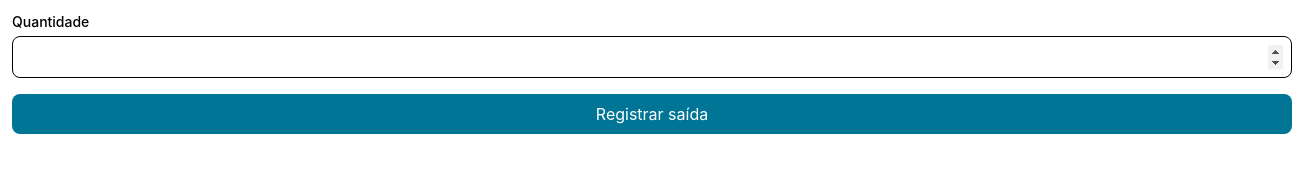
Test case: MovimentacaoForm › FE-13 rejeita quantidade zero sem chamar onSubmit
The image size is (1304, 188).
In the number field labelled "Quantidade": (652, 57) 12,36 -> 1292,78, type "0"
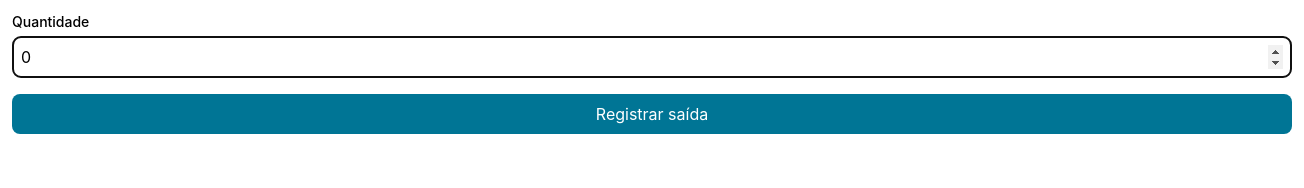
Click the button "Registrar saída": (652, 114) 12,94 -> 1292,134
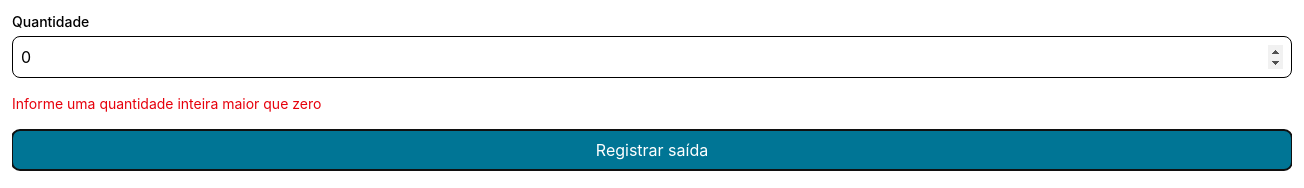
Expected: the message shows "quantidade inteira maior que zero", 12,95 -> 321,112
